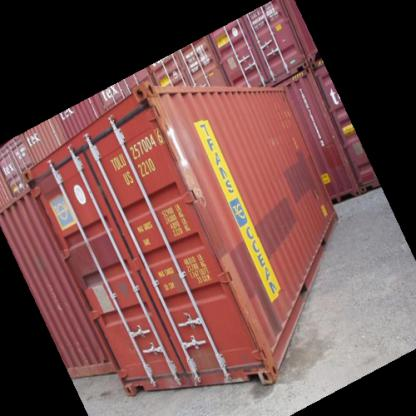Damage: (209, 247, 279, 384), (145, 94, 204, 202), (160, 333, 218, 387)
